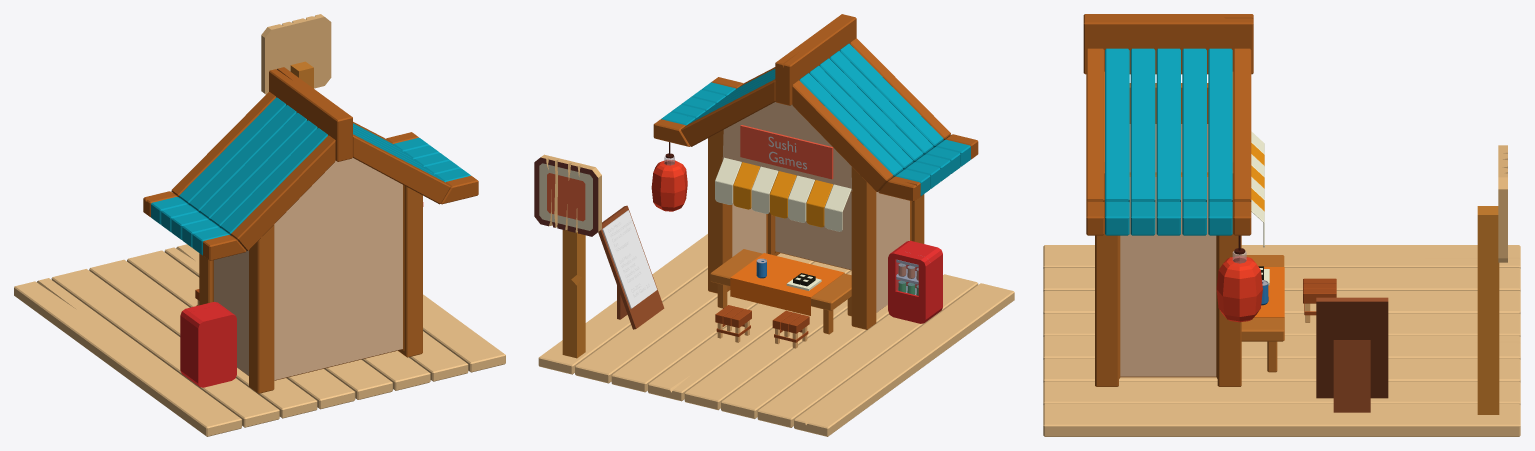
The picture shows the model from 3 angles, left to right: view 1: azimuth 30°, elevation 25°; view 2: azimuth 150°, elevation 25°; view 3: azimuth 270°, elevation 25°; orthographic projection. The views are drawn at different scales.
Visible parts, largest first — view 1: Cube.004, Cube.002, Cube.003, Cube.009, Cube.005, Cube; view 2: Cube.002, Cube.003, Cube.004, Plane.001, Cube.005, Plane.005, Cube.009, Plane.004, Plane, Cube, Plane.003, Plane.002 (+3 smaller); view 3: Cube.002, Cube.003, Cube.004, Plane.005, Cube, Plane.003, Cube.010, Plane.002, Plane.001, Cube.005, Plane.004, Cube.007.
Part boxes in pixels (x1=…): Cube.004: x1=199, y1=158, x2=422, y2=393; Cube.002: x1=14, y1=244, x2=505, y2=436; Cube.003: x1=143, y1=92, x2=478, y2=260; Cube.009: x1=180, y1=302, x2=236, y2=387; Cube.005: x1=261, y1=14, x2=331, y2=94; Cube: x1=269, y1=67, x2=352, y2=161; Cube.002: x1=538, y1=234, x2=1014, y2=436; Cube.003: x1=653, y1=38, x2=978, y2=201; Cube.004: x1=708, y1=102, x2=924, y2=329; Plane.001: x1=715, y1=157, x2=851, y2=231; Cube.005: x1=534, y1=154, x2=601, y2=236; Plane.005: x1=598, y1=205, x2=664, y2=329; Cube.009: x1=888, y1=240, x2=942, y2=323; Plane.004: x1=730, y1=253, x2=844, y2=315; Plane: x1=740, y1=125, x2=833, y2=179; Cube: x1=775, y1=14, x2=856, y2=105; Plane.003: x1=562, y1=229, x2=585, y2=358; Plane.002: x1=710, y1=249, x2=851, y2=334; Cube.002: x1=1043, y1=245, x2=1520, y2=436; Cube.003: x1=1086, y1=48, x2=1251, y2=235; Cube.004: x1=1095, y1=71, x2=1241, y2=386; Plane.005: x1=1316, y1=297, x2=1388, y2=412; Cube: x1=1083, y1=14, x2=1253, y2=74; Plane.003: x1=1477, y1=206, x2=1499, y2=414; Cube.010: x1=1216, y1=235, x2=1262, y2=322; Plane.002: x1=1241, y1=255, x2=1284, y2=372; Plane.001: x1=1251, y1=131, x2=1264, y2=247; Cube.005: x1=1498, y1=145, x2=1507, y2=262; Plane.004: x1=1254, y1=267, x2=1284, y2=340; Cube.007: x1=1303, y1=278, x2=1336, y2=322.
Bounding box in the file's own units: 6.16 × 5.14 × 6.69.
